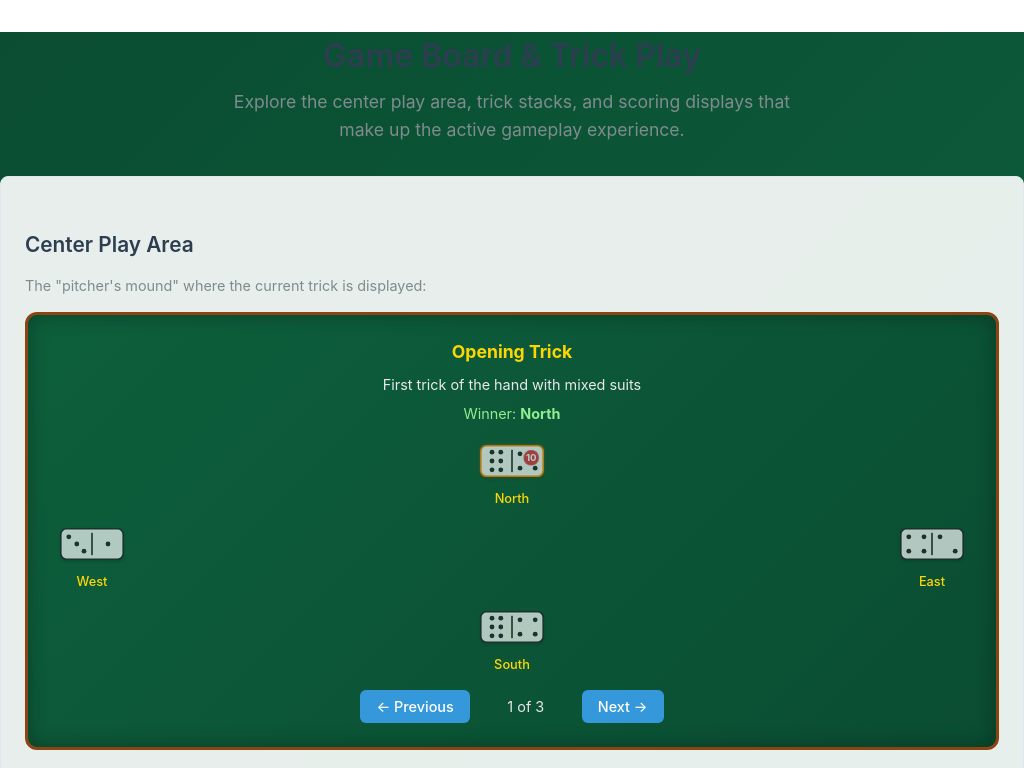
Test: GameBoardSection - Trick Cycling › cycles to next trick when next button is clicked
Expected: the heading "Opening Trick" is shown, [452,341,572,362]
# Click next button
Click the button with test id "next-trick-button" at (623,707), box [582,690,664,723]
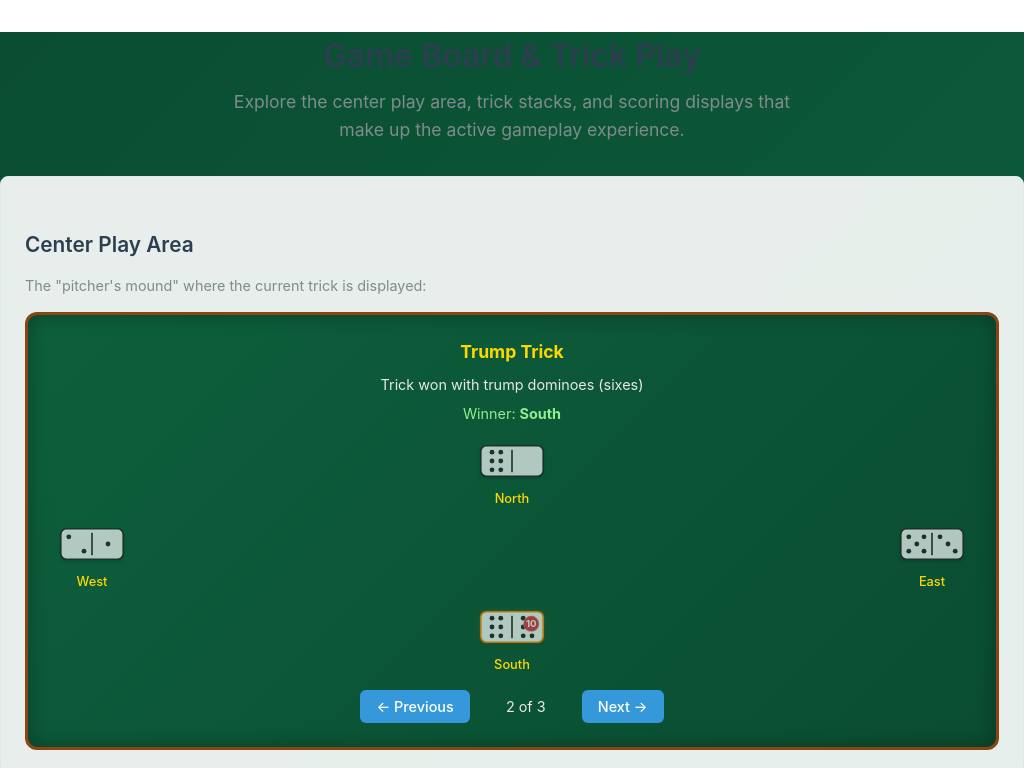
Result: the heading "Trump Trick" is shown at [460,341,564,362]
Result: the text "Trick won with trump dominoes (sixes)" is shown at [381,376,643,392]
Result: the text "2 of 3" is shown at [506,698,546,715]
